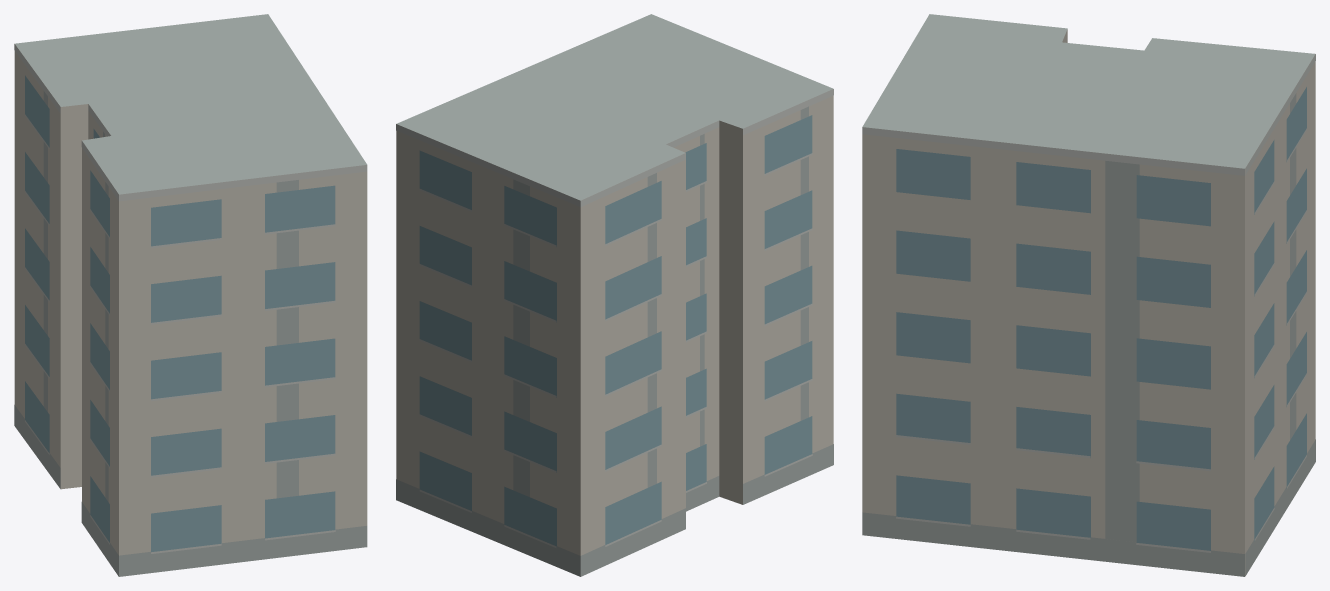
The model's file is survey-upis-32831178.glb.
3 renders of one model, left to right at view 1: azimuth 30°, elevation 25°; view 2: azimuth 150°, elevation 25°; view 3: azimuth 270°, elevation 25°, orthographic. The views are drawn at different scales.
Visible parts, largest first — view 1: survey-upis-32831178.tmp; view 2: survey-upis-32831178.tmp; view 3: survey-upis-32831178.tmp.
Part boxes in pixels (bbox=[...]): survey-upis-32831178.tmp: bbox=[14, 14, 367, 576]; survey-upis-32831178.tmp: bbox=[396, 14, 833, 576]; survey-upis-32831178.tmp: bbox=[862, 14, 1315, 576].
Size of the model in its own units: 11.17 by 13.72 by 13.83.
